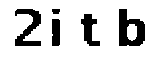2: (9, 5, 47, 53)
b: (114, 6, 151, 53)
i: (50, 4, 64, 54)
t: (78, 10, 107, 50)
